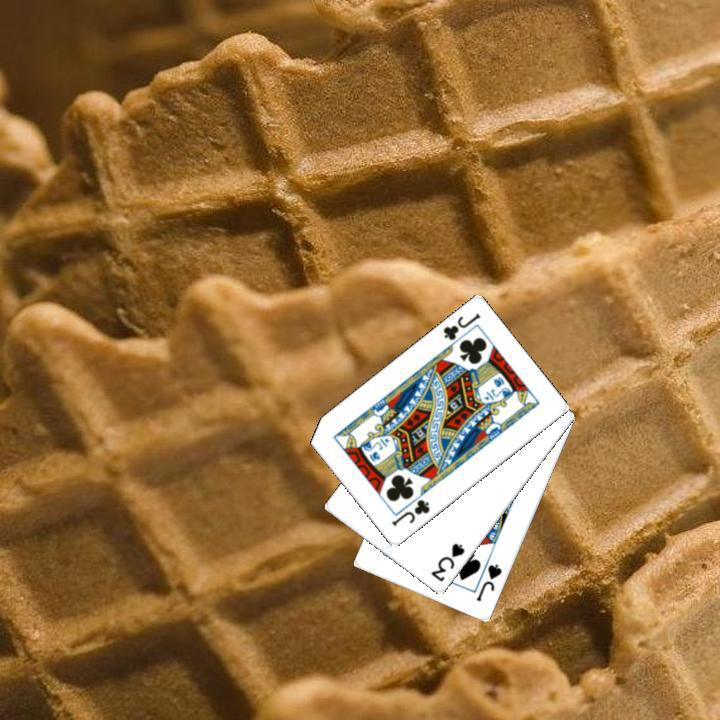3: (427, 539, 467, 584)
J: (387, 495, 432, 529), (438, 309, 483, 343), (472, 560, 504, 604)
